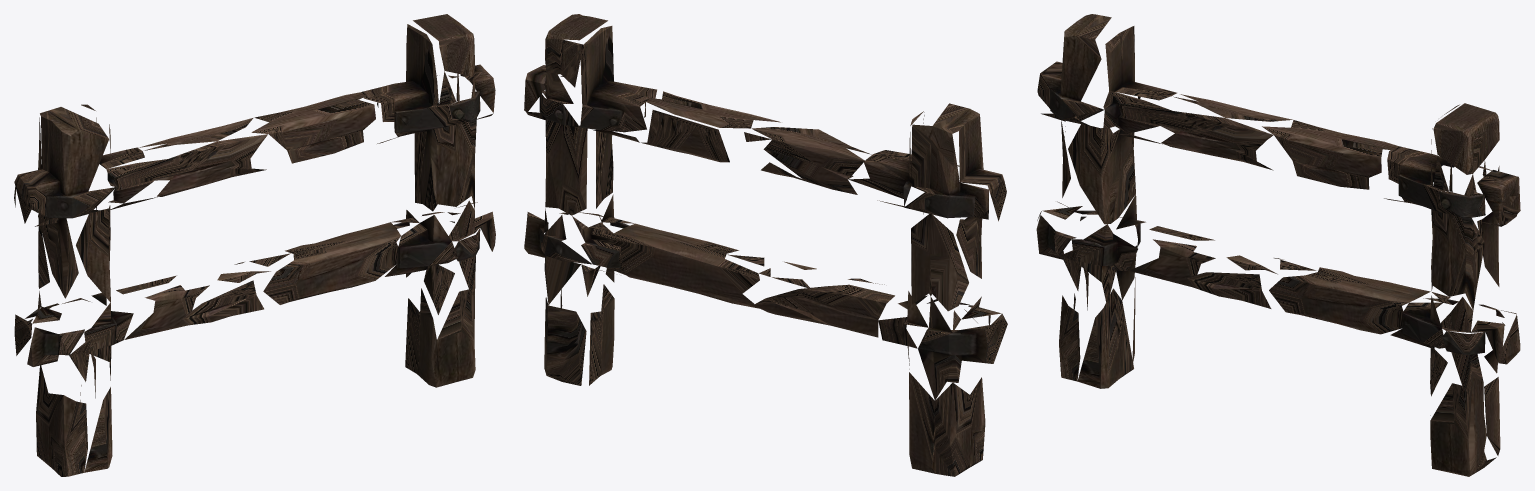
Rendered from prp_fence_a_LOD1.glb.
The picture shows the model from 3 angles, left to right: view 1: azimuth 30°, elevation 25°; view 2: azimuth 150°, elevation 25°; view 3: azimuth 330°, elevation 25°; orthographic projection.
Parts seen in each view (by area): view 1: geometry_0; view 2: geometry_0; view 3: geometry_0.
Boxes of the visible parts, x1,y1,x2,y2 form: geometry_0: (14, 14, 495, 476); geometry_0: (524, 14, 1007, 476); geometry_0: (1036, 14, 1520, 476).
Bounding box in the file's own units: 1.69 × 1.2 × 0.2492.
Materials: 1 (1 with a texture image).
